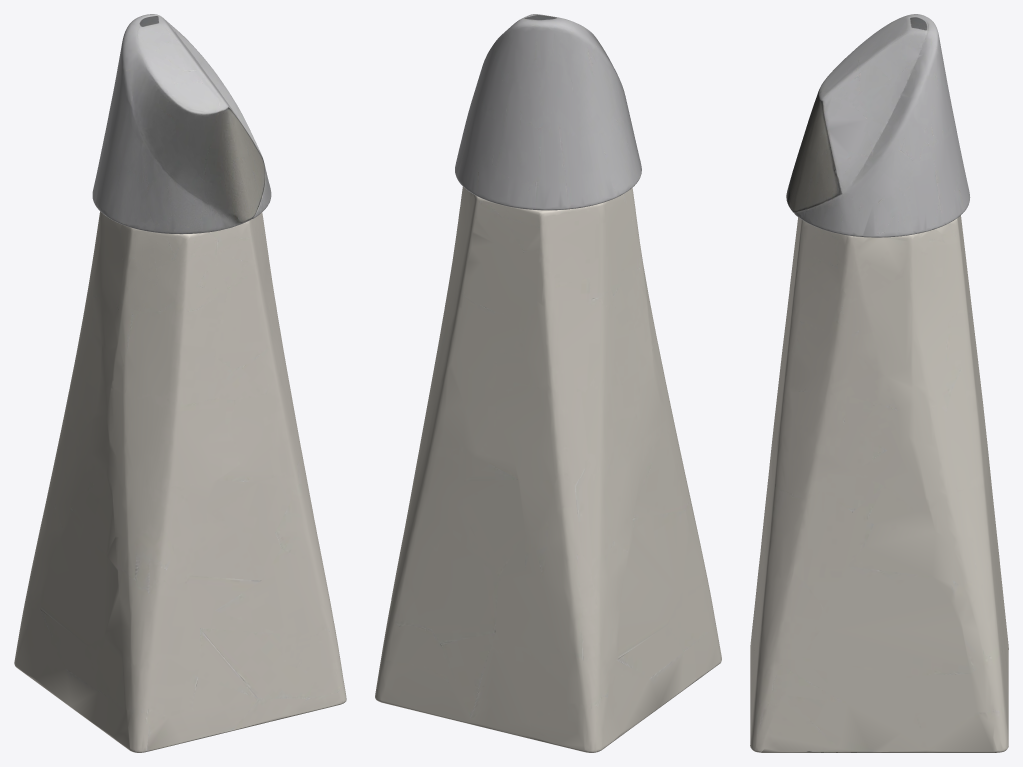
The model's file is pawn-white-hd.glb.
3 views of the same model, side by side, from view 1: azimuth 30°, elevation 25°; view 2: azimuth 150°, elevation 25°; view 3: azimuth 270°, elevation 25° (orthographic). The views are drawn at different scales.
Size of the model in its own units: 0.3811 by 1.1 by 0.3839.
Materials: 1 (1 with a texture image).
